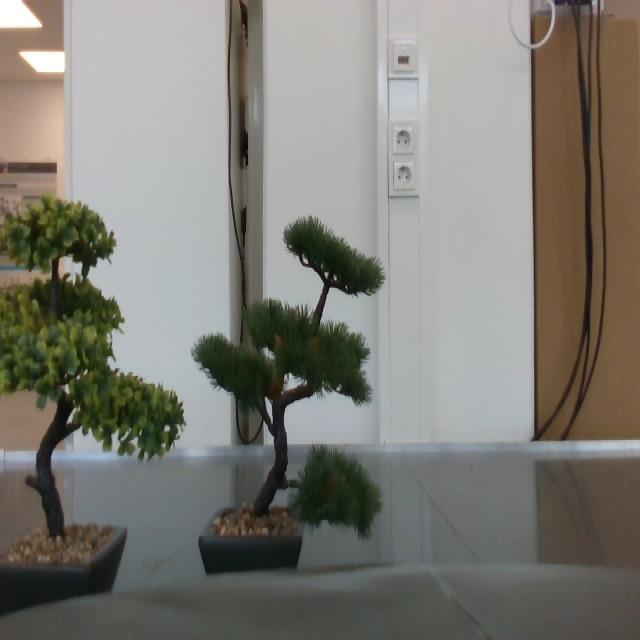potted plant: (1, 193, 186, 542), (191, 214, 386, 544)
